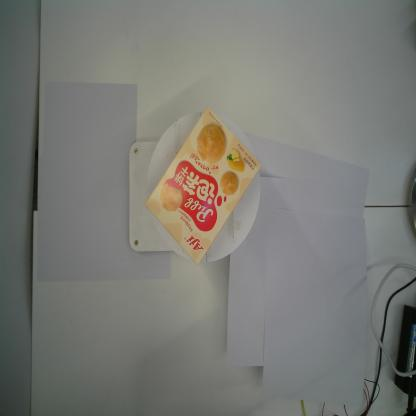Dessert: (144, 105, 263, 266)
